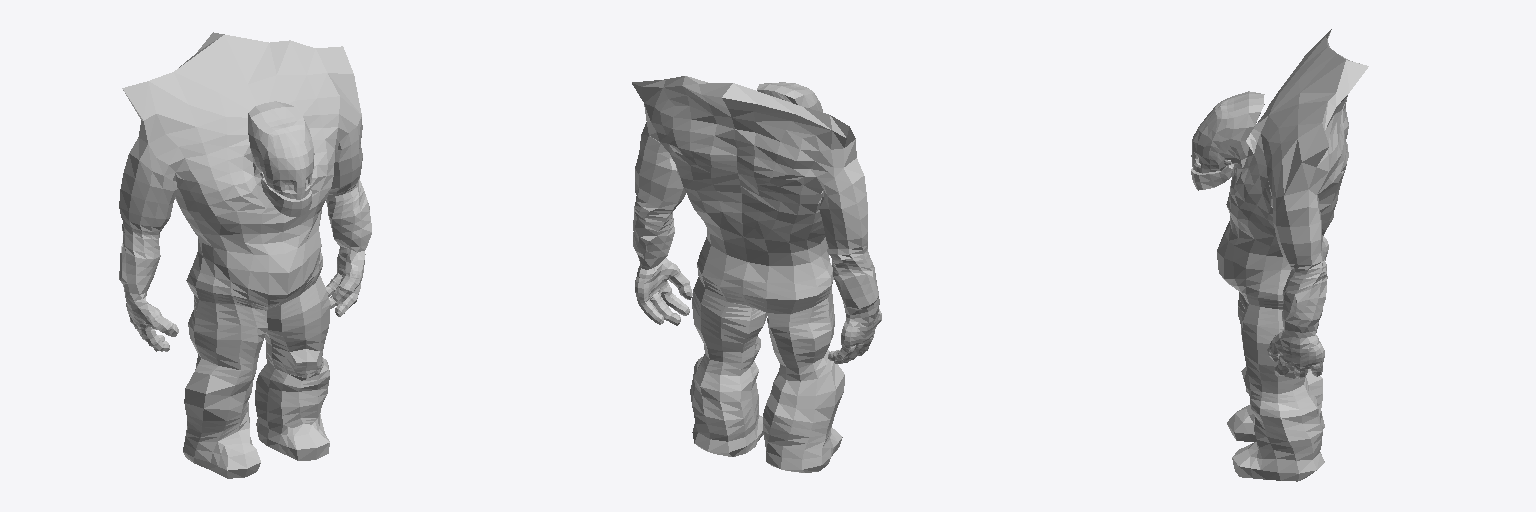
The model's file is golem_000005.obj.
The picture shows the model from 3 angles: view 1: azimuth 30°, elevation 25°; view 2: azimuth 150°, elevation 25°; view 3: azimuth 270°, elevation 25°; orthographic projection.
Visible parts, largest first — view 1: golem; view 2: golem; view 3: golem.
Boxes of the visible parts, box(x1,y1,x2,y2) form: golem: box(119, 32, 371, 478); golem: box(632, 76, 881, 472); golem: box(1191, 29, 1368, 481).
Size of the model in its own units: 7.35 by 11.28 by 4.63.